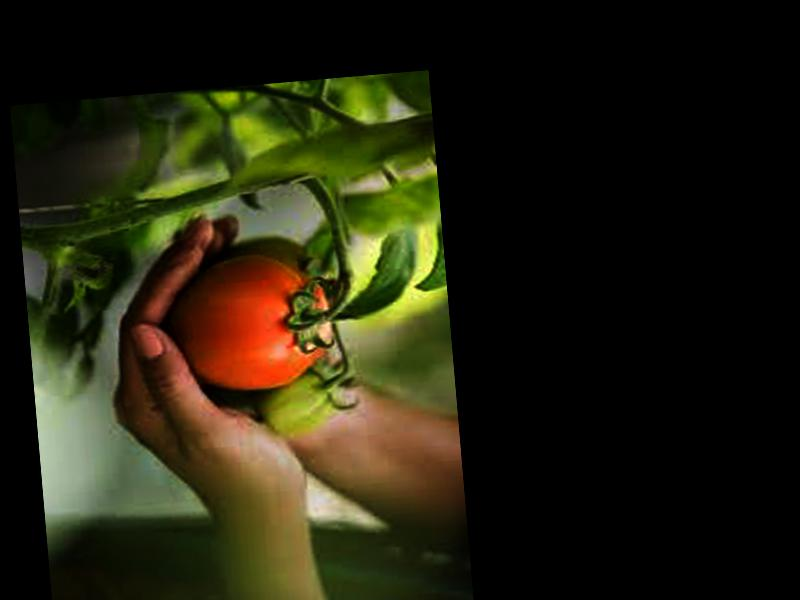Tomato: (170, 251, 334, 396)
